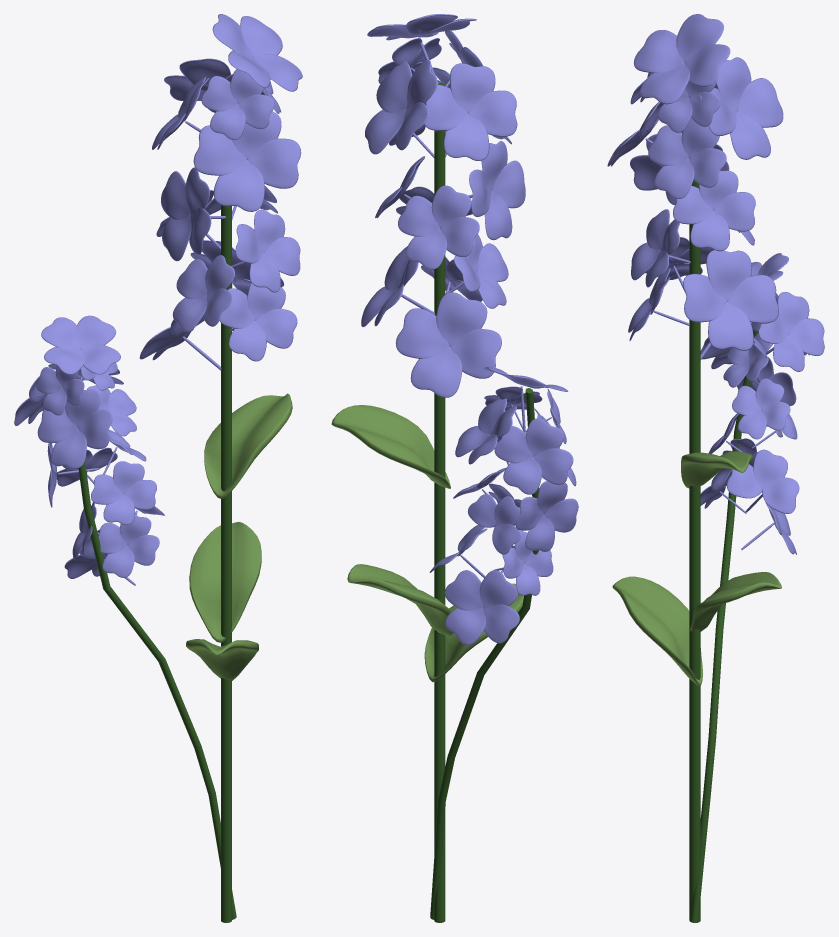
Rendered from flower12.fbx.
The picture shows the model from 3 angles, left to right: view 1: azimuth 30°, elevation 25°; view 2: azimuth 150°, elevation 25°; view 3: azimuth 270°, elevation 25°; orthographic projection.
Visible parts, largest first — view 1: flower12_group30_group19_group14_pPlane6, pCylinder12, polySurface94, polySurface55, polySurface50, polySurface69, polySurface40, polySurface93, polySurface66, polySurface64, polySurface49, polySurface29 (+6 smaller); view 2: flower12_group30_group19_group14_pPlane6, pCylinder12, polySurface94, polySurface77, polySurface41, polySurface34, polySurface27, polySurface60, polySurface26, polySurface86, polySurface44, polySurface61 (+10 smaller); view 3: flower12_group30_group19_group14_pPlane6, pCylinder12, polySurface94, polySurface81, polySurface48, polySurface36, polySurface74, polySurface67, polySurface85, polySurface62, polySurface35, polySurface43 (+3 smaller).
Part boxes in pixels (x1,y1,x2,y2): flower12_group30_group19_group14_pPlane6: [139, 14, 302, 680]; pCylinder12: [221, 205, 231, 922]; polySurface94: [78, 461, 236, 919]; polySurface55: [51, 428, 86, 469]; polySurface50: [75, 315, 115, 348]; polySurface69: [78, 410, 112, 449]; polySurface40: [37, 408, 77, 442]; polySurface93: [41, 317, 80, 349]; polySurface66: [80, 344, 120, 374]; polySurface64: [44, 347, 84, 374]; polySurface49: [65, 389, 100, 427]; polySurface29: [124, 480, 156, 509]; flower12_group30_group19_group14_pPlane6: [331, 14, 525, 682]; pCylinder12: [434, 83, 445, 922]; polySurface94: [430, 388, 539, 919]; polySurface77: [444, 570, 483, 610]; polySurface41: [445, 608, 485, 645]; polySurface34: [479, 570, 518, 608]; polySurface27: [483, 604, 519, 643]; polySurface60: [503, 456, 541, 494]; polySurface26: [533, 448, 573, 485]; polySurface86: [525, 418, 563, 456]; polySurface44: [494, 426, 533, 463]; polySurface61: [544, 498, 578, 532]; flower12_group30_group19_group14_pPlane6: [607, 14, 783, 686]; pCylinder12: [689, 180, 700, 922]; polySurface94: [690, 330, 758, 922]; polySurface81: [762, 477, 799, 513]; polySurface48: [753, 449, 787, 489]; polySurface36: [789, 318, 824, 355]; polySurface74: [777, 292, 809, 333]; polySurface67: [773, 334, 804, 371]; polySurface85: [726, 464, 762, 498]; polySurface62: [732, 385, 761, 415]; polySurface35: [755, 378, 784, 410]; polySurface43: [761, 401, 790, 430].
Bounding box in the file's own units: 8.47 × 28.49 × 6.21.
